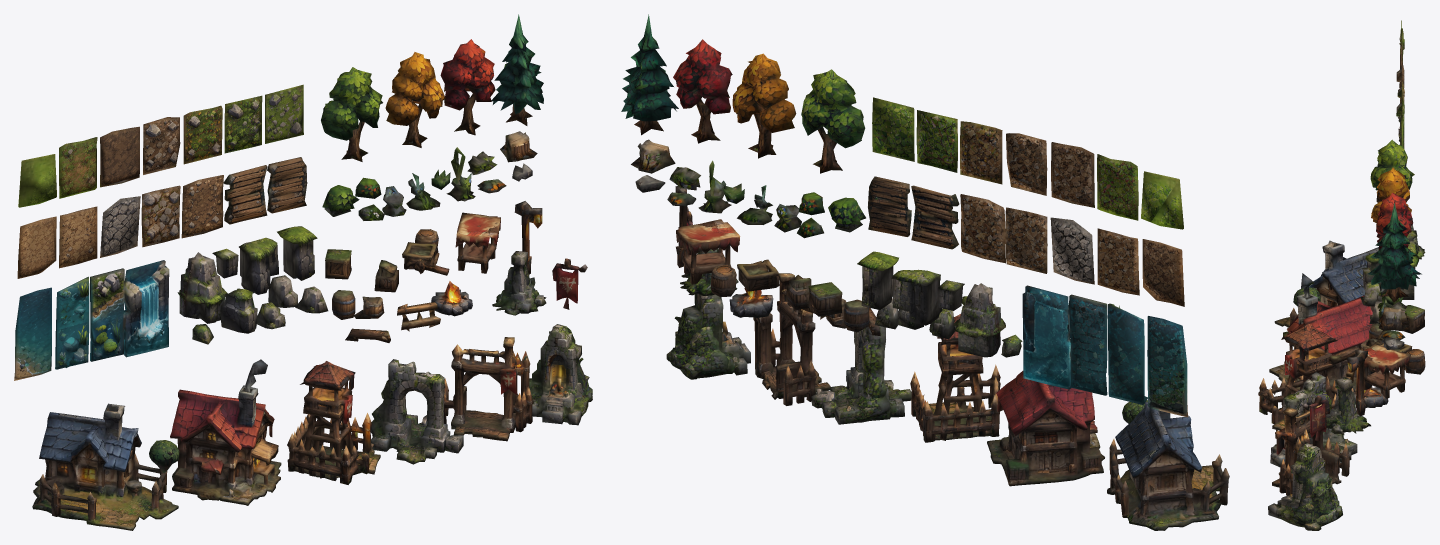
Rendered from v2_medieval_village.glb.
The picture shows the model from 3 angles, left to right: view 1: azimuth 30°, elevation 25°; view 2: azimuth 150°, elevation 25°; view 3: azimuth 270°, elevation 25°; orthographic projection. The views are drawn at different scales.
Parts seen in each view (by area): view 1: tripo_part_1, tripo_part_0, tripo_part_2, tripo_part_6, tripo_part_3, tripo_part_4, tripo_part_14, tripo_part_12, tripo_part_5, tripo_part_23, tripo_part_40, tripo_part_24 (+33 smaller); view 2: tripo_part_1, tripo_part_0, tripo_part_2, tripo_part_3, tripo_part_6, tripo_part_4, tripo_part_14, tripo_part_12, tripo_part_5, tripo_part_40, tripo_part_24, tripo_part_23 (+30 smaller); view 3: tripo_part_0, tripo_part_4, tripo_part_2, tripo_part_3, tripo_part_1, tripo_part_10, tripo_part_6, tripo_part_7, tripo_part_8, tripo_part_12, tripo_part_23, tripo_part_5 (+11 smaller).
Boxes of the visible parts, left/top/right/bottom form: tripo_part_1: left=32, top=403, right=178, bottom=530; tripo_part_0: left=170, top=359, right=281, bottom=505; tripo_part_2: left=287, top=361, right=380, bottom=484; tripo_part_6: left=370, top=359, right=463, bottom=464; tripo_part_3: left=443, top=337, right=533, bottom=441; tripo_part_4: left=529, top=324, right=592, bottom=425; tripo_part_14: left=123, top=260, right=169, bottom=357; tripo_part_12: left=321, top=67, right=382, bottom=161; tripo_part_5: left=385, top=52, right=445, bottom=147; tripo_part_23: left=440, top=39, right=495, bottom=135; tripo_part_40: left=14, top=287, right=51, bottom=380; tripo_part_24: left=90, top=268, right=124, bottom=361; tripo_part_1: left=1107, top=401, right=1229, bottom=530; tripo_part_0: left=987, top=371, right=1104, bottom=486; tripo_part_2: left=910, top=314, right=1000, bottom=442; tripo_part_3: left=753, top=273, right=830, bottom=405; tripo_part_6: left=811, top=326, right=911, bottom=424; tripo_part_4: left=666, top=294, right=750, bottom=379; tripo_part_14: left=1022, top=285, right=1071, bottom=389; tripo_part_12: left=801, top=69, right=865, bottom=173; tripo_part_5: left=732, top=53, right=796, bottom=158; tripo_part_40: left=1147, top=316, right=1188, bottom=417; tripo_part_24: left=1068, top=294, right=1107, bottom=395; tripo_part_23: left=673, top=39, right=732, bottom=143; tripo_part_0: left=1269, top=273, right=1373, bottom=393; tripo_part_4: left=1268, top=443, right=1342, bottom=530; tripo_part_2: left=1258, top=323, right=1353, bottom=430; tripo_part_3: left=1272, top=404, right=1349, bottom=495; tripo_part_1: left=1274, top=240, right=1378, bottom=346; tripo_part_10: left=1367, top=203, right=1421, bottom=302; tripo_part_6: left=1270, top=372, right=1357, bottom=467; tripo_part_7: left=1363, top=344, right=1410, bottom=398; tripo_part_8: left=1326, top=376, right=1370, bottom=435; tripo_part_12: left=1370, top=139, right=1414, bottom=190; tripo_part_23: left=1376, top=192, right=1413, bottom=249; tripo_part_5: left=1371, top=167, right=1411, bottom=227.
Bounding box in the file's own units: 1 × 0.6453 × 0.3057.
63 materials, 63 textured.
